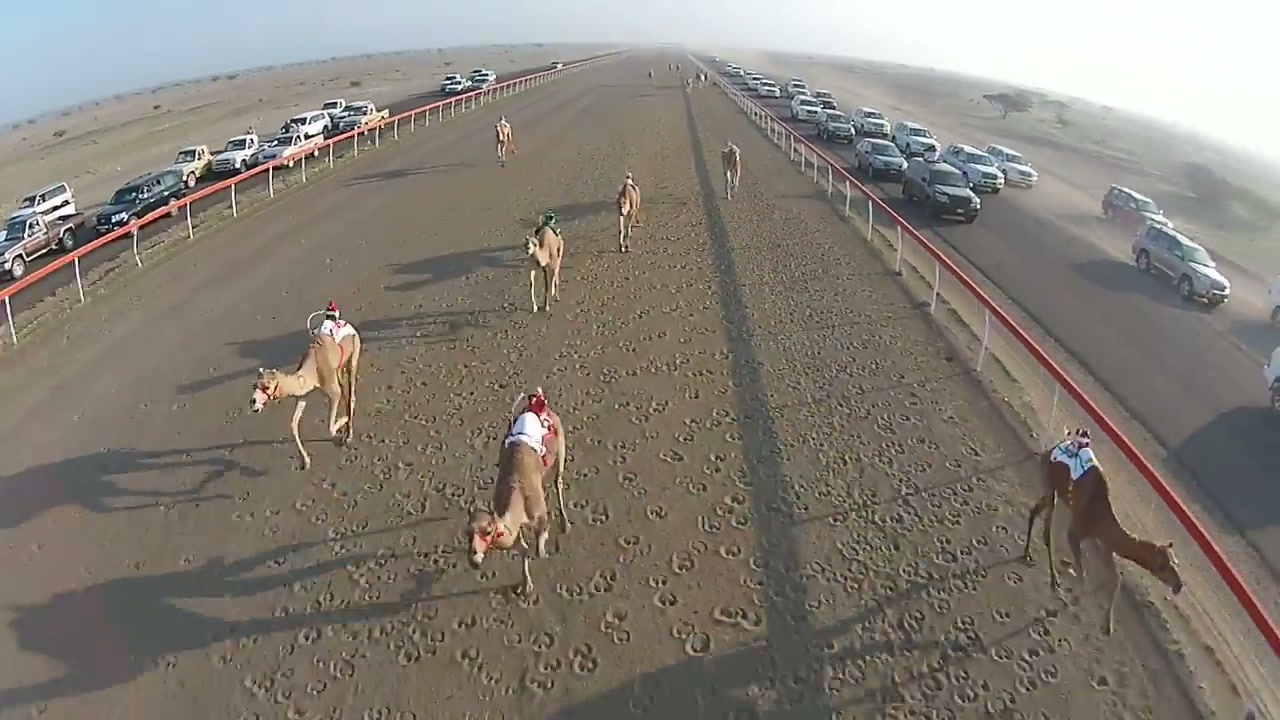animal_foot_print: (11, 81, 1192, 719)
